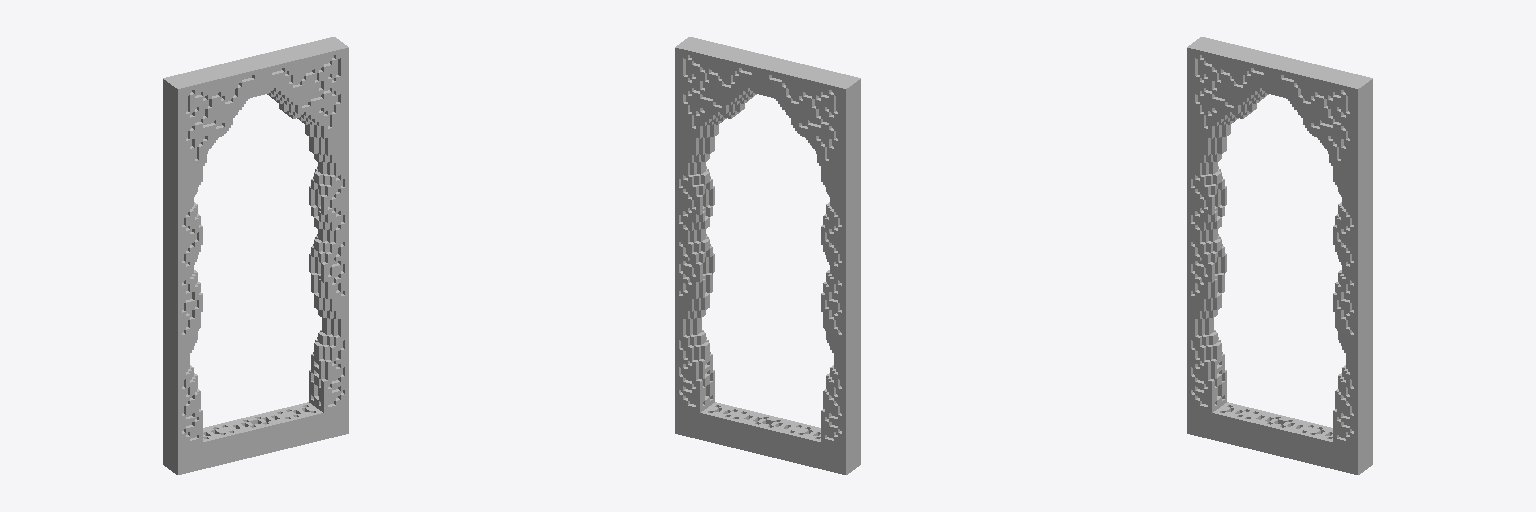
The model's file is Entrance.obj.
The picture shows the model from 3 angles: view 1: azimuth 30°, elevation 25°; view 2: azimuth 150°, elevation 25°; view 3: azimuth 330°, elevation 25°; orthographic projection.
Parts seen in each view (by area): view 1: object 1; view 2: object 1; view 3: object 1.
Boxes of the visible parts, <box> form: object 1: <box>163,37,348,474</box>; object 1: <box>675,37,860,474</box>; object 1: <box>1187,37,1372,474</box>.
Size of the model in its own units: 4 by 8.6 by 0.6.